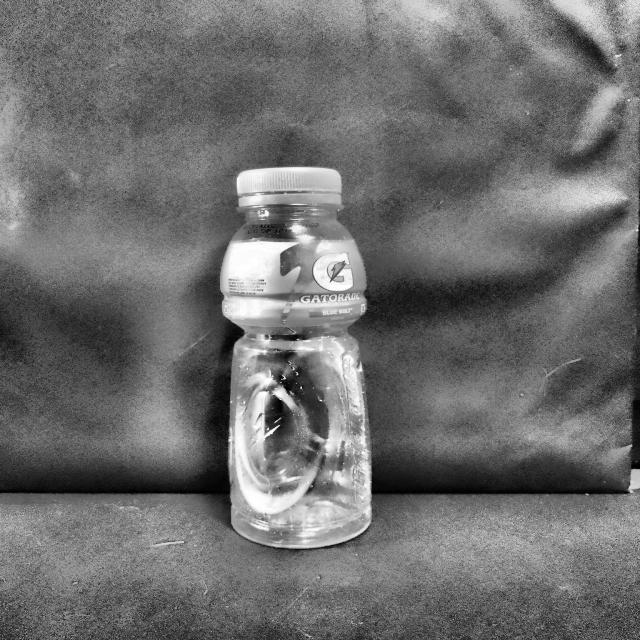Plastic-Bottle: (218, 165, 376, 550)
